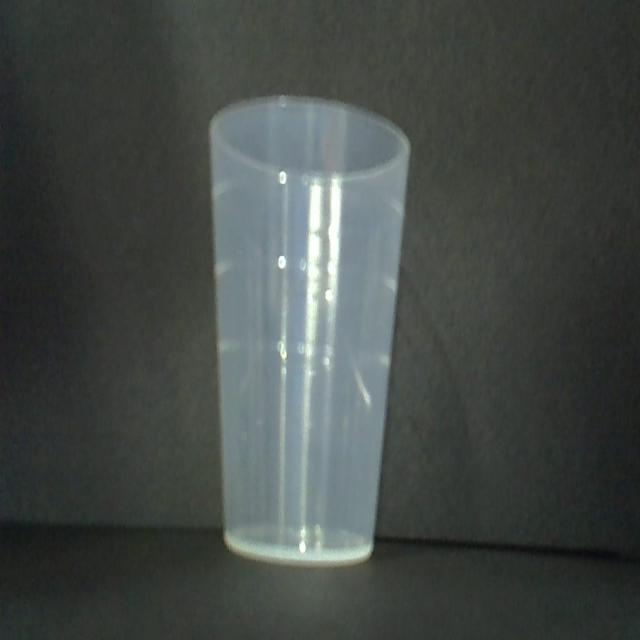cup: (202, 89, 411, 573)
